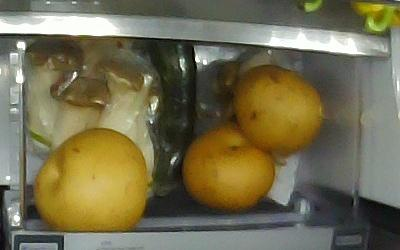pear: (32, 128, 147, 229), (234, 65, 325, 155), (181, 124, 275, 209)
